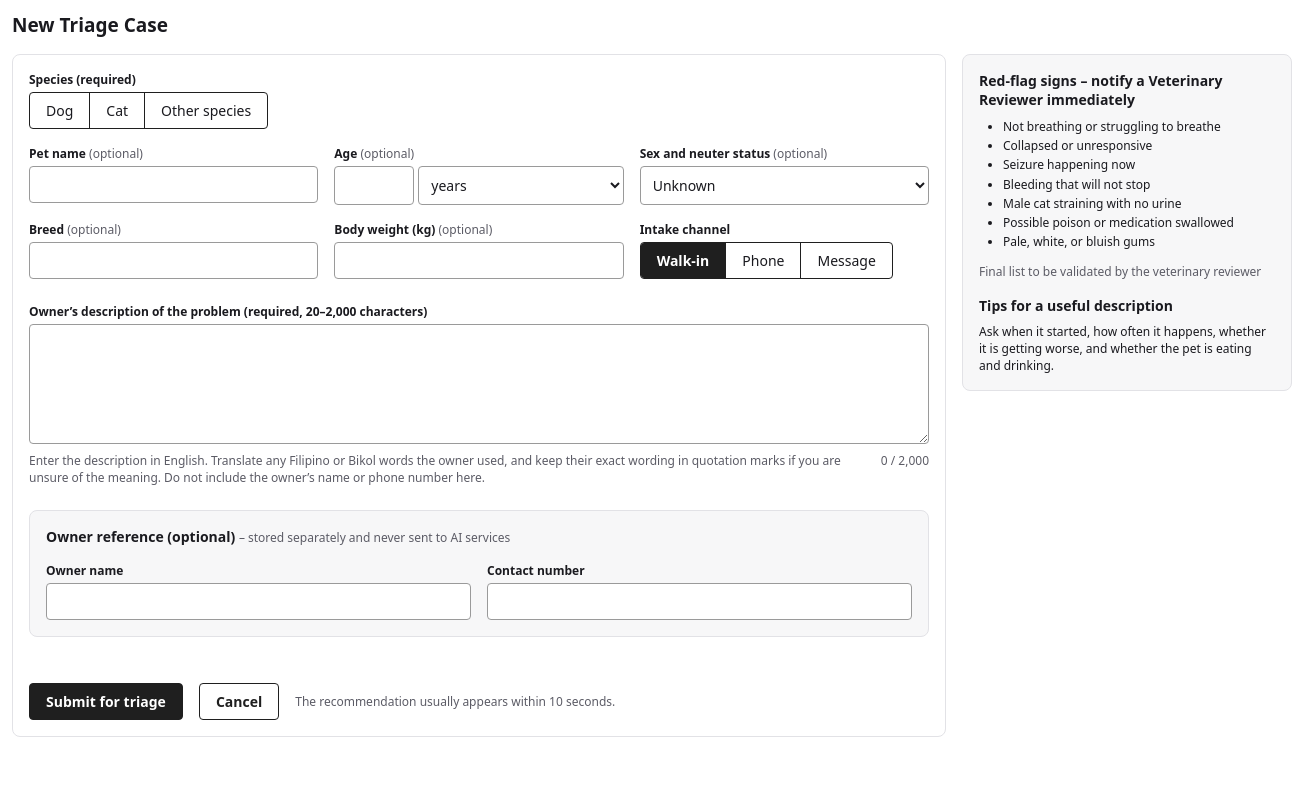
Scenario: CaseIntake character counter (W-03) › follows what the user types
Step 1. Type "Vomited twice" into the text box labelled "description of the problem" → (479, 384), box [29,324,929,444]
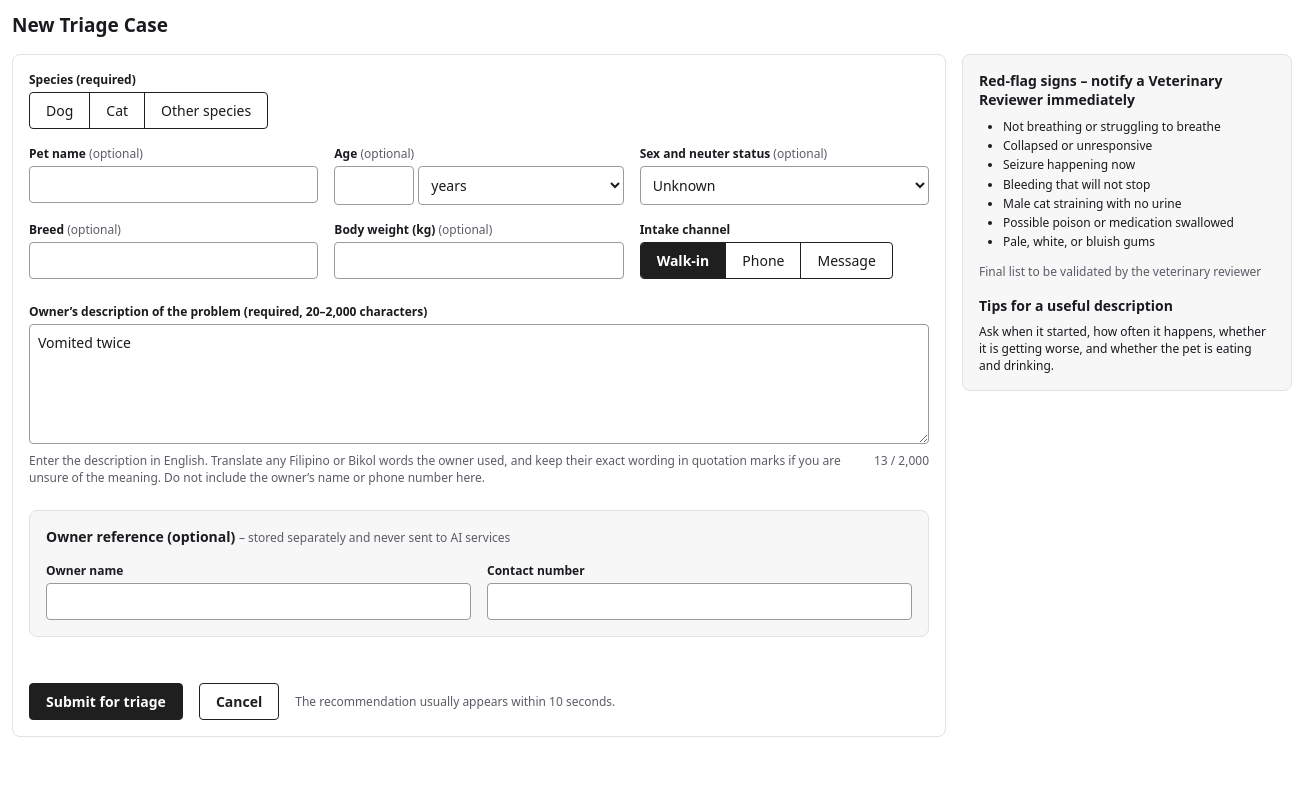
Now the text "13 / 2,000" is shown, box [874,452,929,469]
